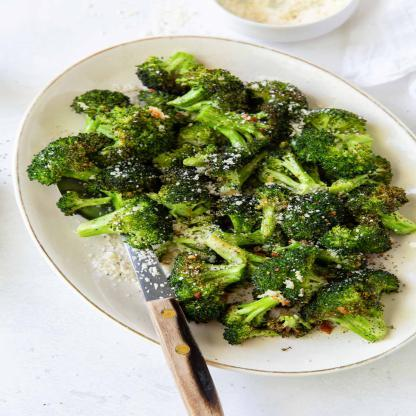broccoli: (27, 52, 416, 346)
